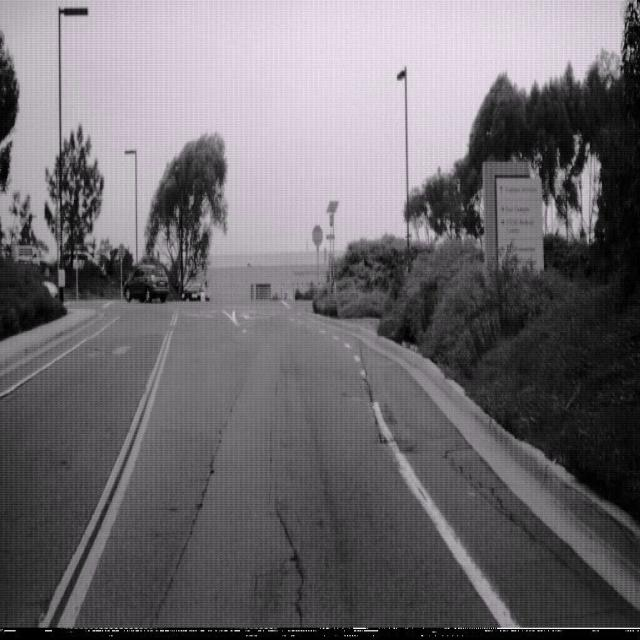stop: (311, 224, 323, 248)
